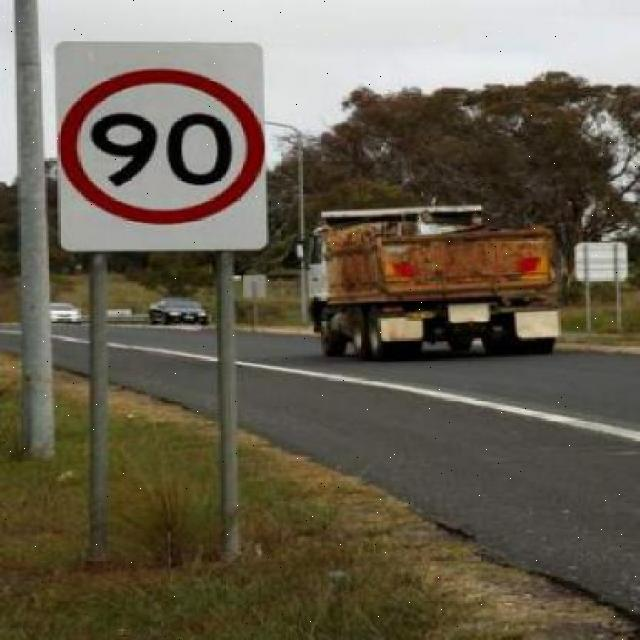speed limit 90: (58, 68, 266, 225)
